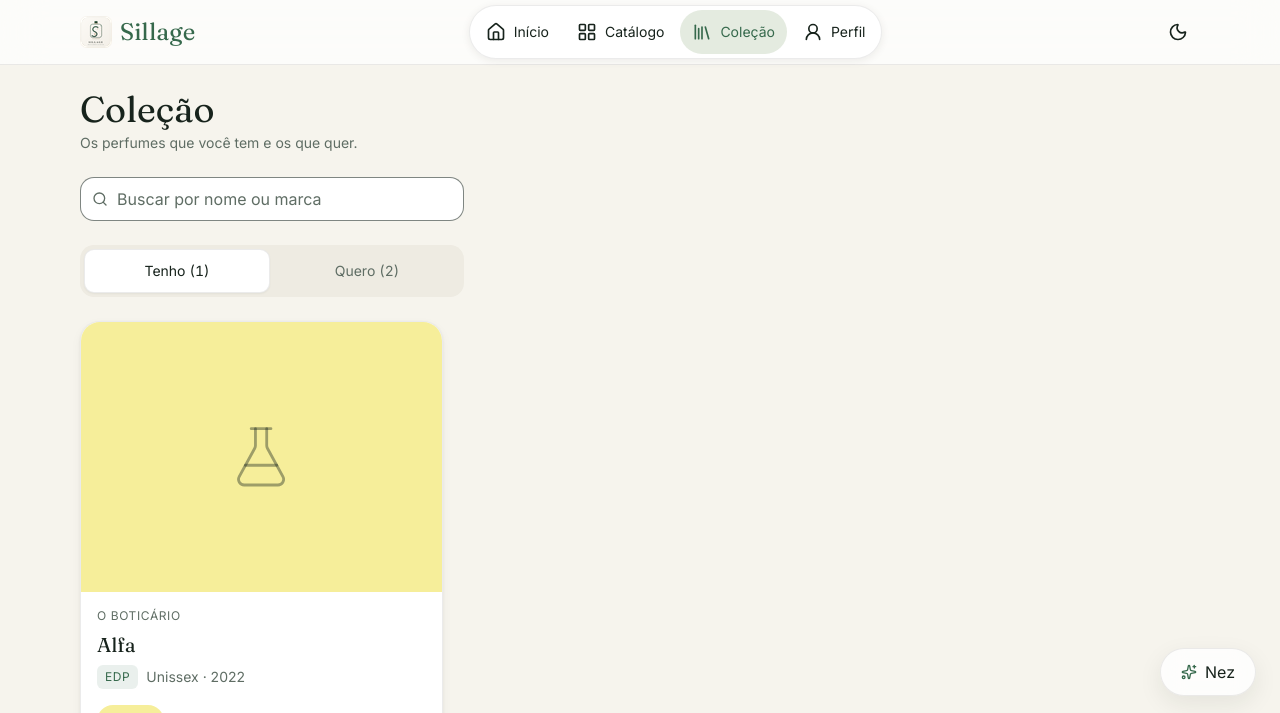
Test case: CollectionPage › mostra a contagem real nas abas e só os perfumes da aba ativa
expect the heading "Alfa" is shown: met, box [97, 632, 136, 658]
expect the heading "Beta" is not shown: met
Press the mouse on the tab "Quero (2)" at (367, 271), box [274, 249, 460, 293]
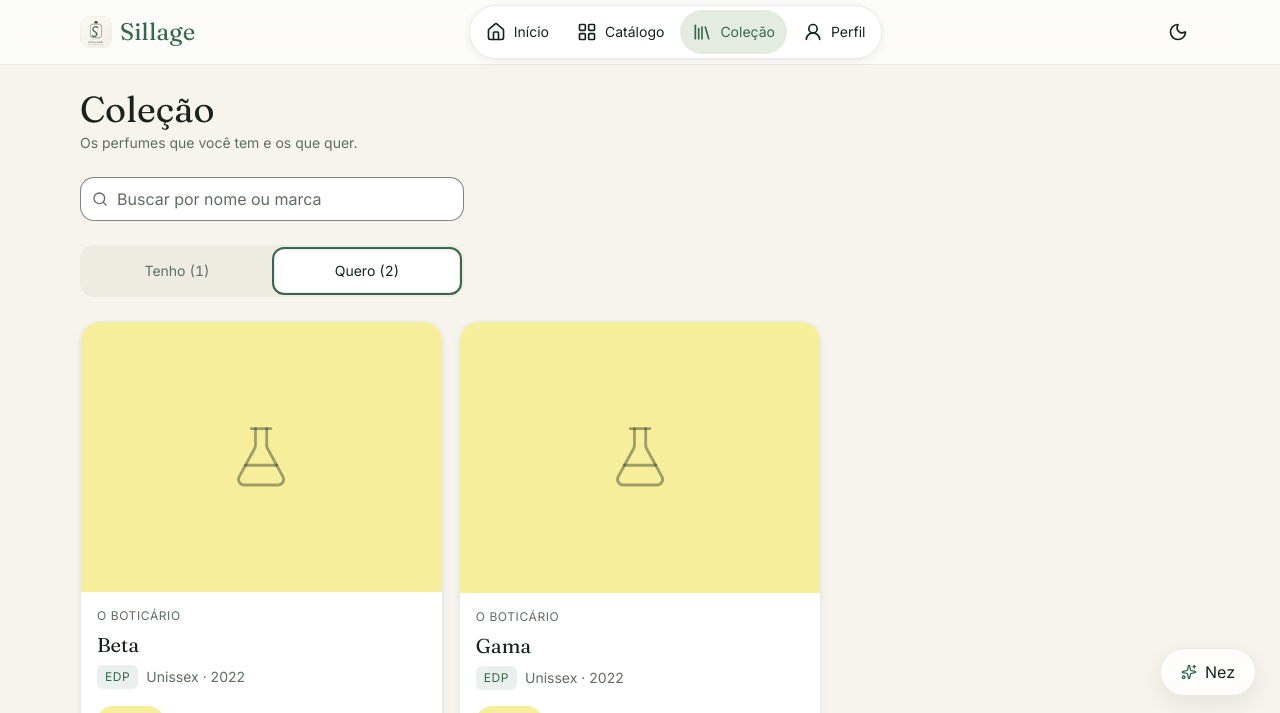
expect the heading "Beta" is shown: met, box [97, 632, 139, 658]
